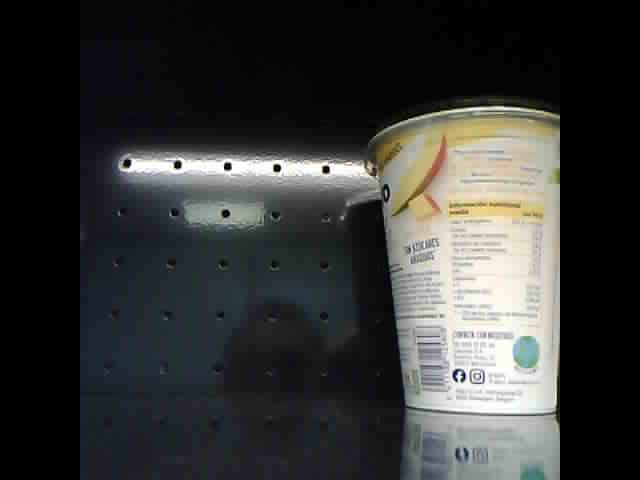alpro: (366, 94, 560, 417)
